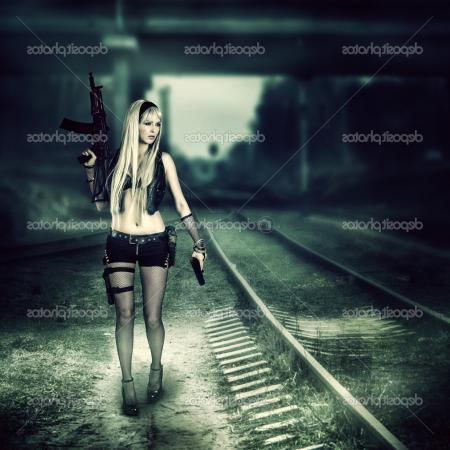Pistol: (184, 242, 214, 286)
